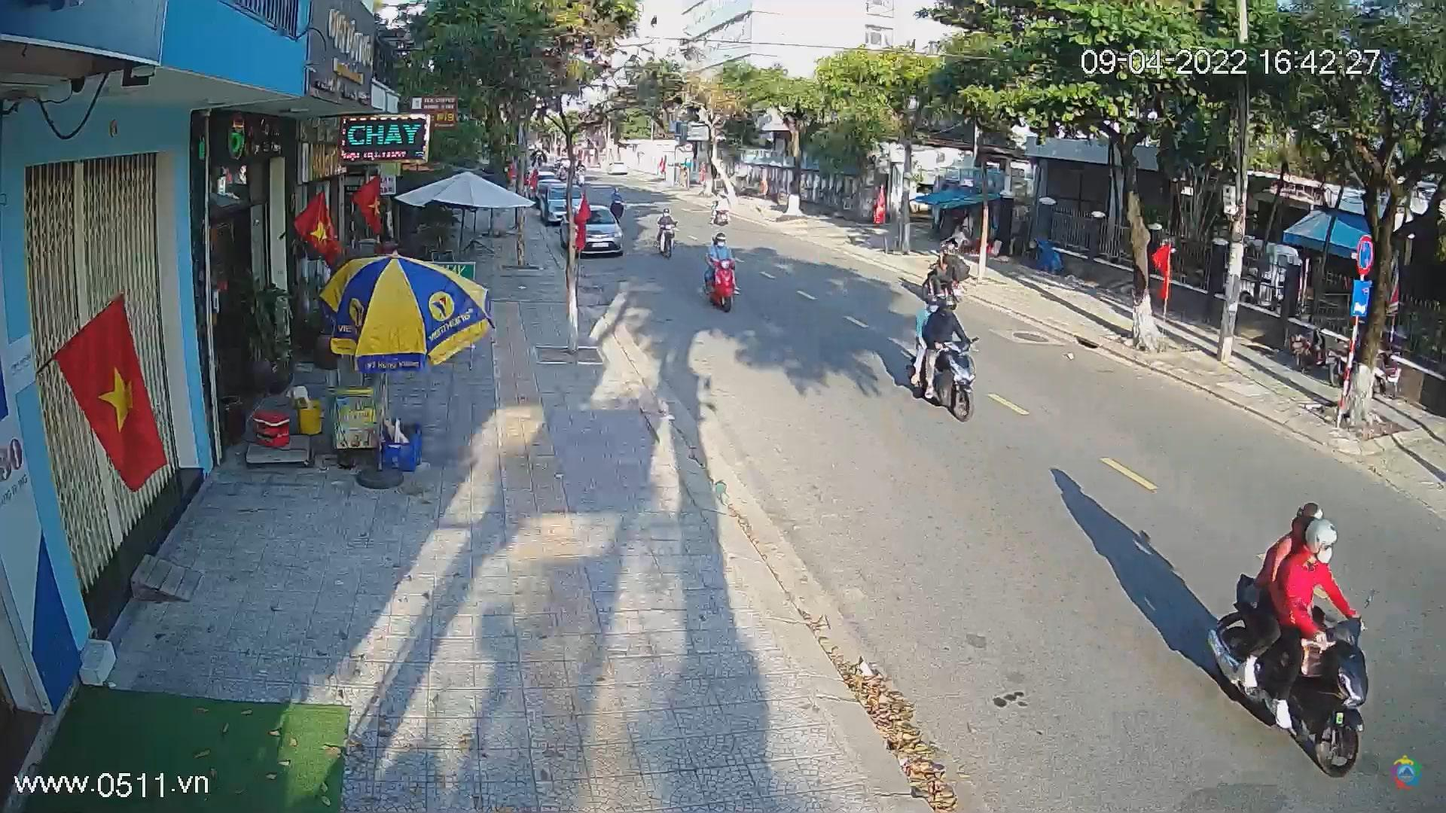car: (566, 203, 625, 260)
motorbike: (1202, 563, 1373, 790), (897, 318, 982, 426), (697, 249, 744, 311)
